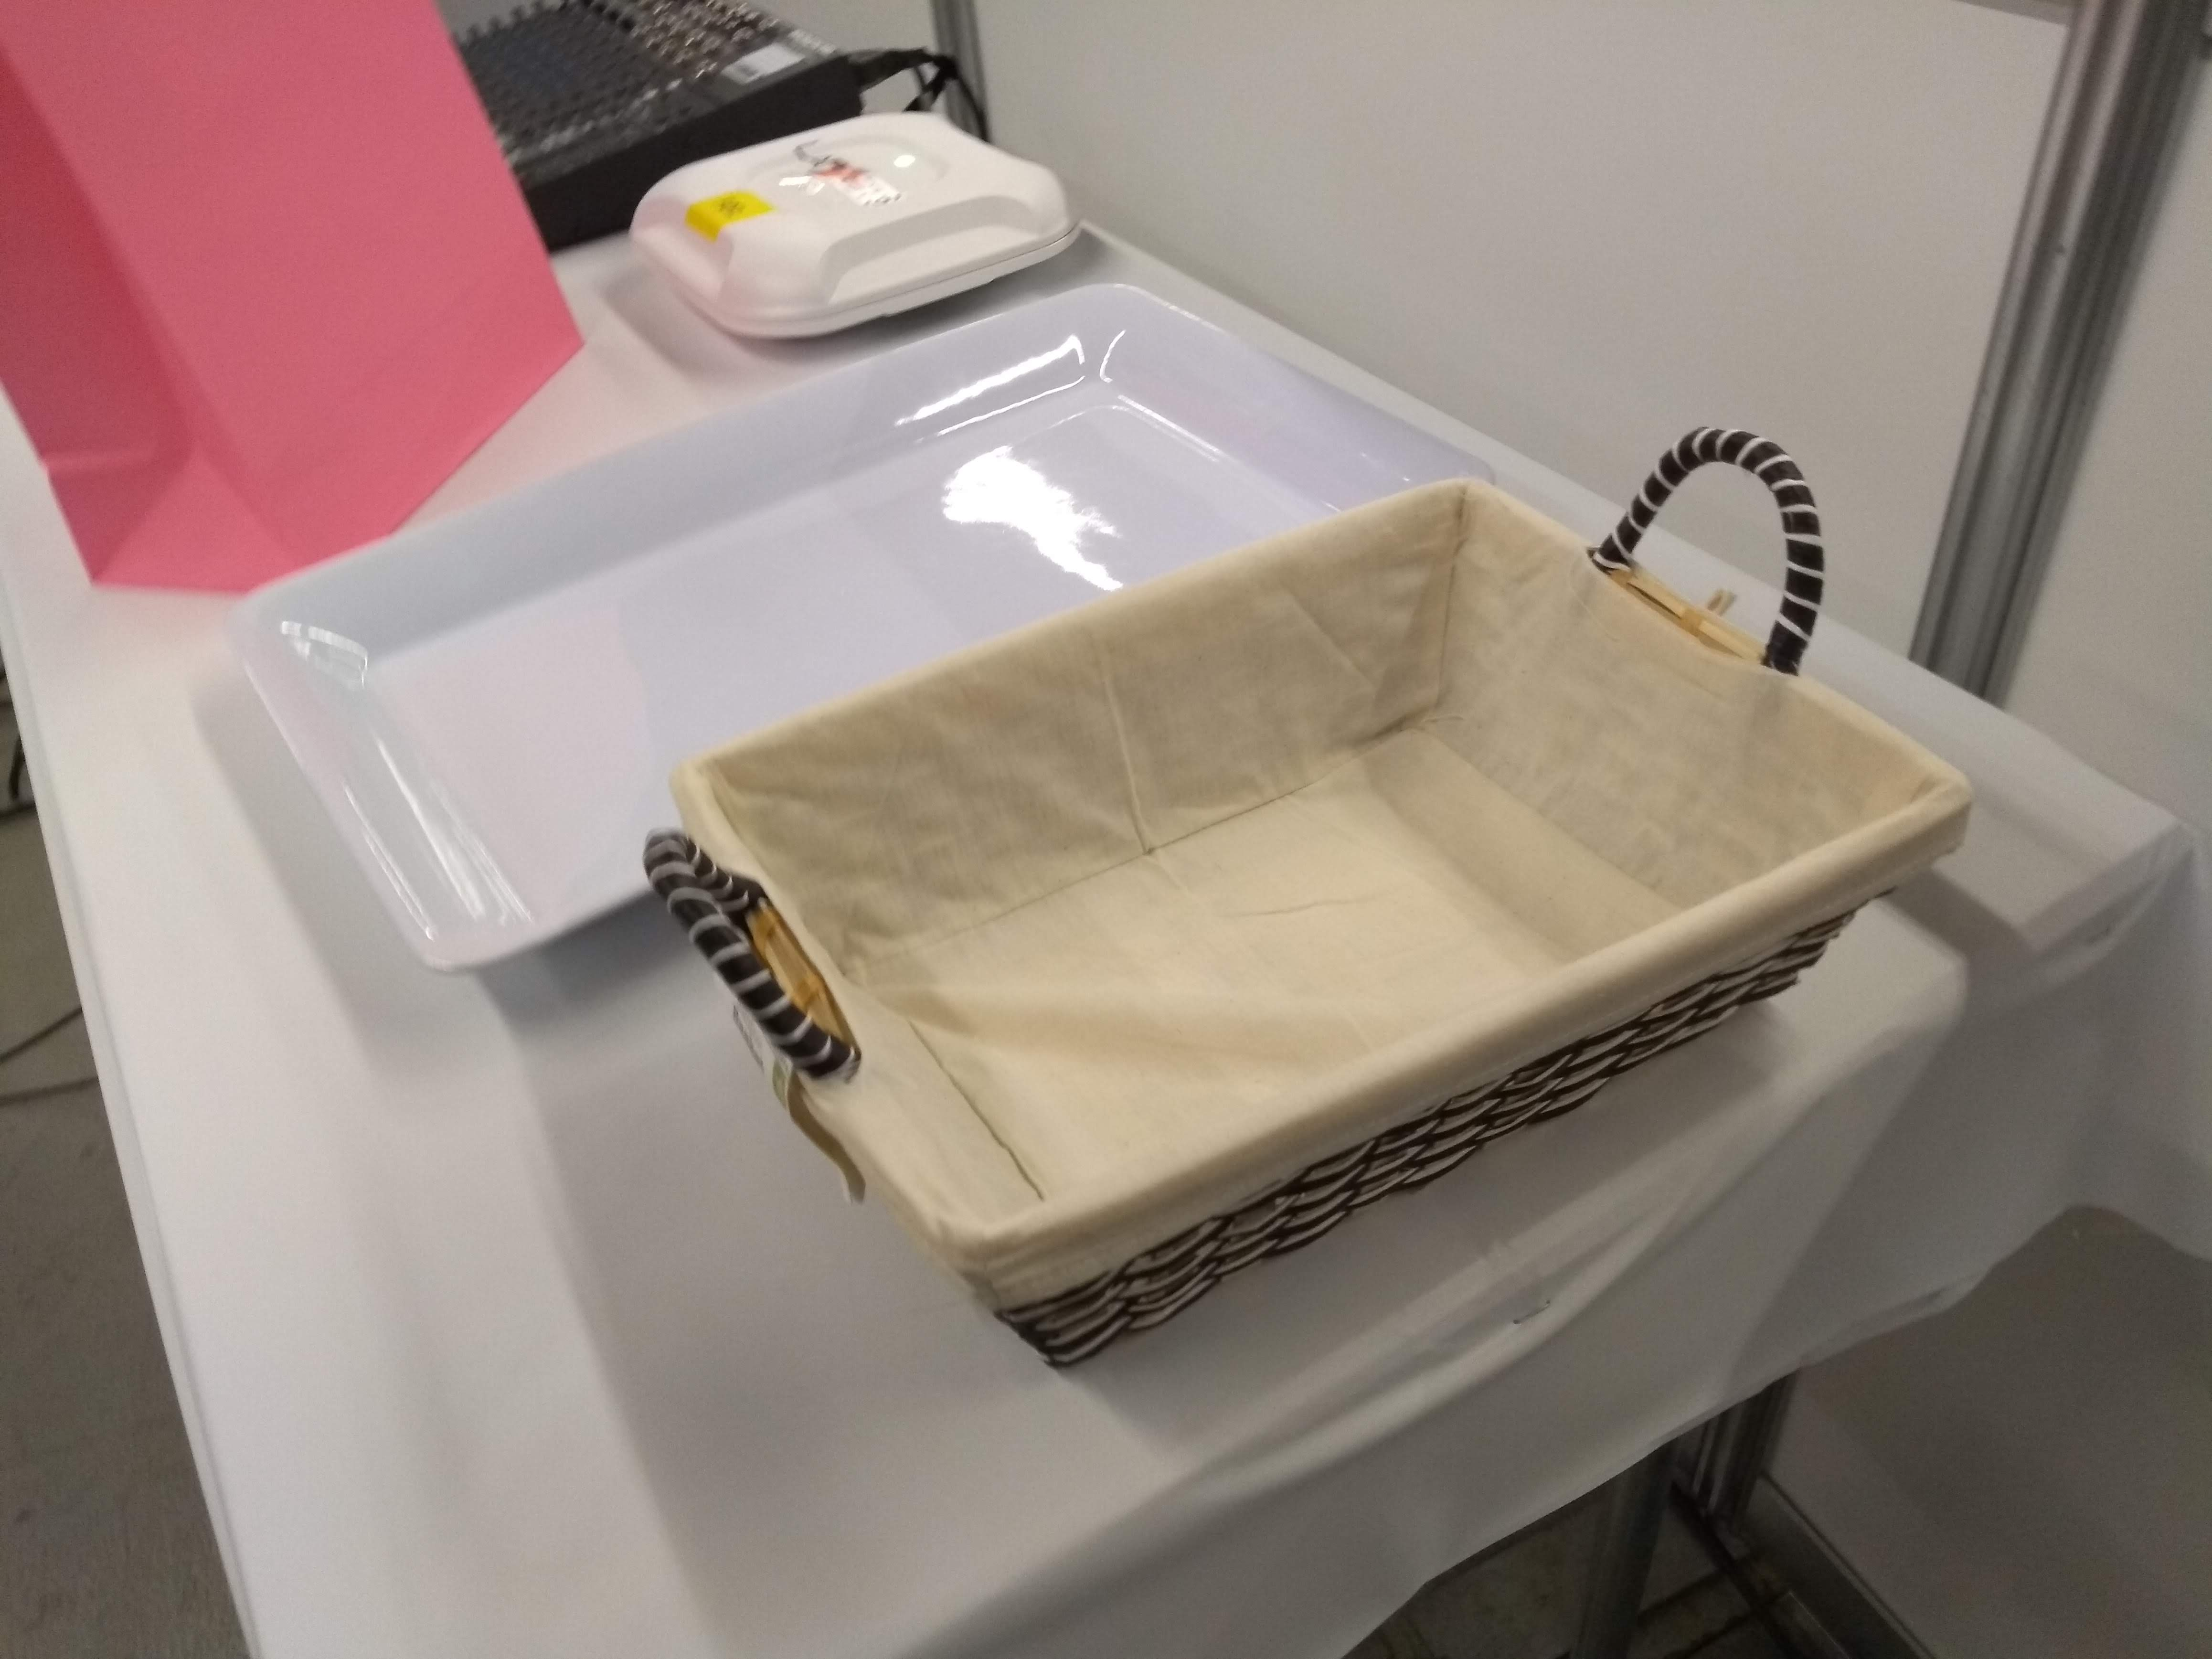basket: (674, 434, 1993, 1375)
help_me_carry_opl: (0, 9, 590, 605)
tray: (195, 275, 1486, 1006)
